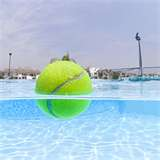tennis ball: (33, 61, 92, 119)
